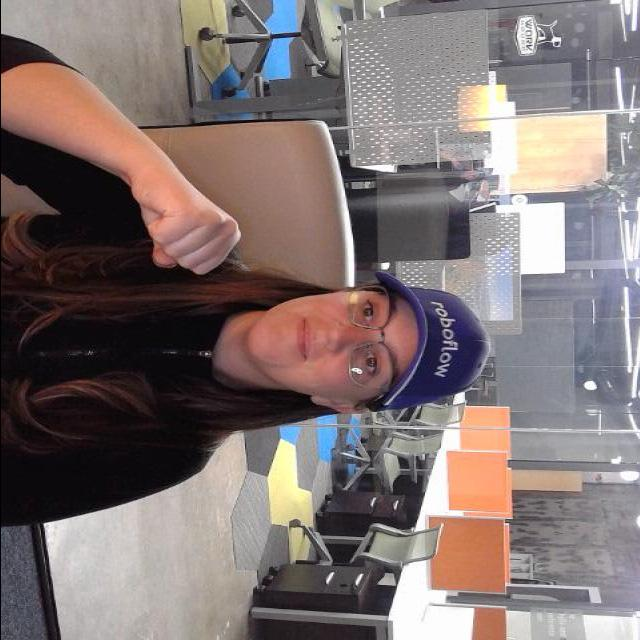Rock: (130, 170, 243, 276)
